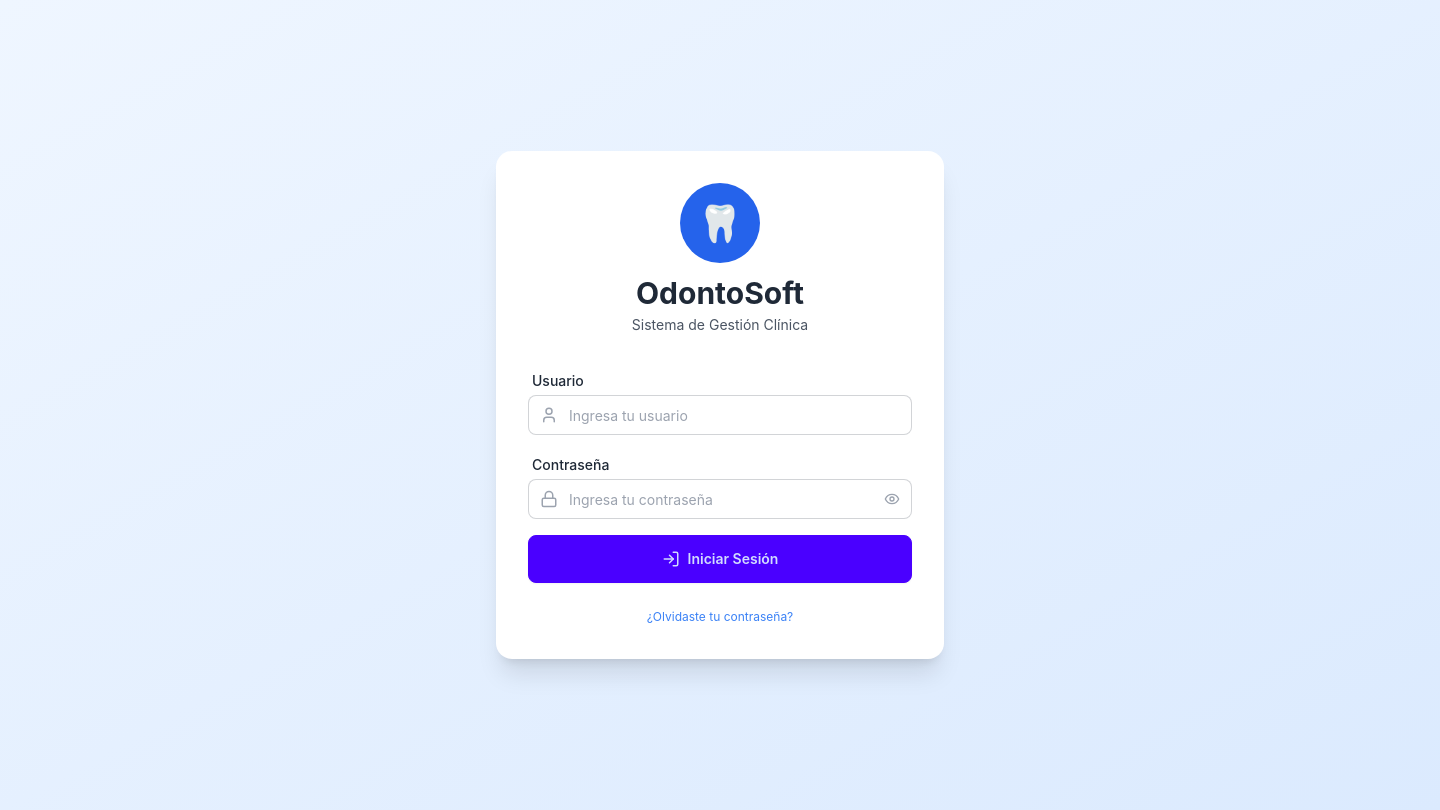
Scenario: Login Component › muestra error cuando las credenciales son incorrectas
Type "admin" into the field with placeholder "Ingresa tu usuario" at (720, 415), box [528,395,912,435]
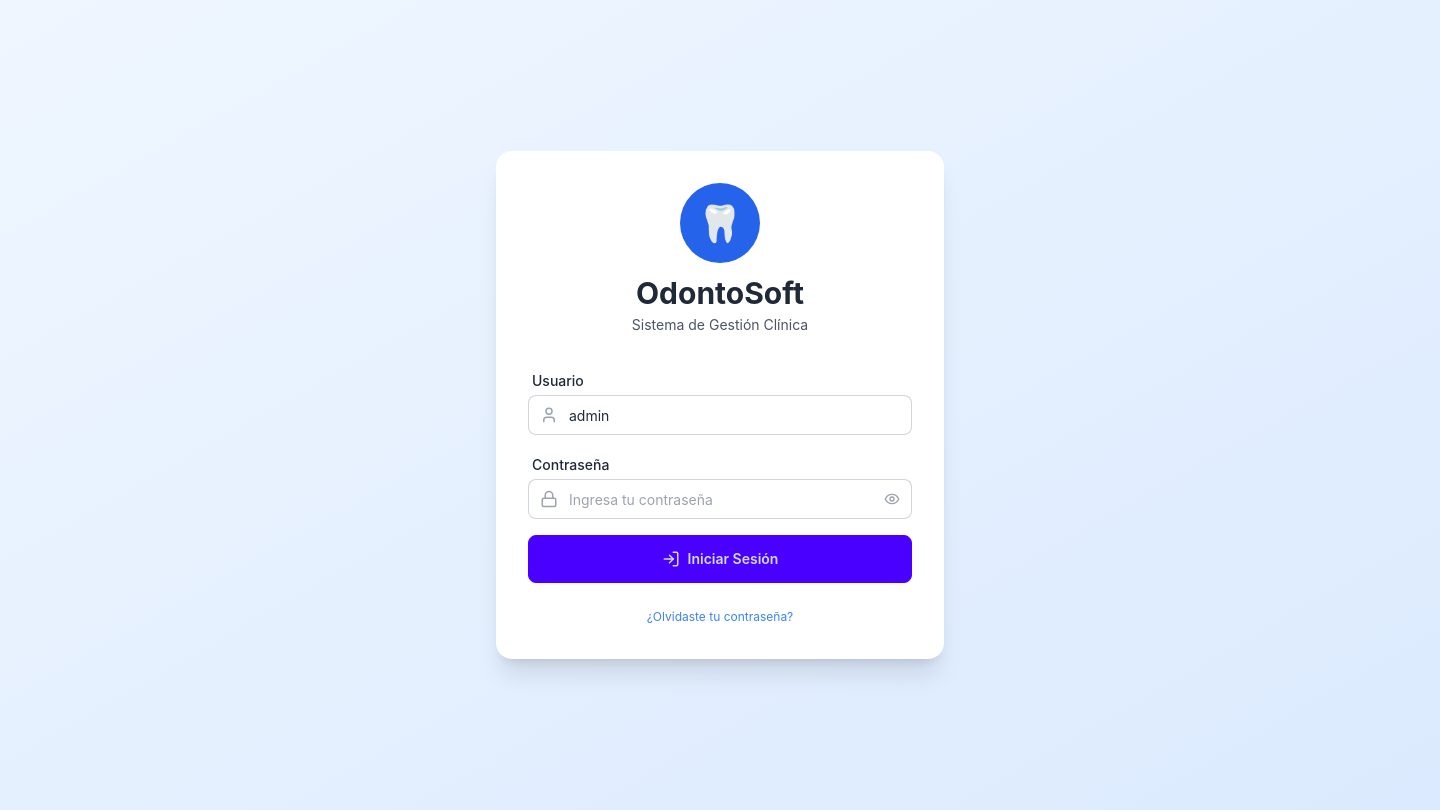
Type "wrong" into the password field with placeholder "Ingresa tu contraseña" at (720, 499), box [528,479,912,519]
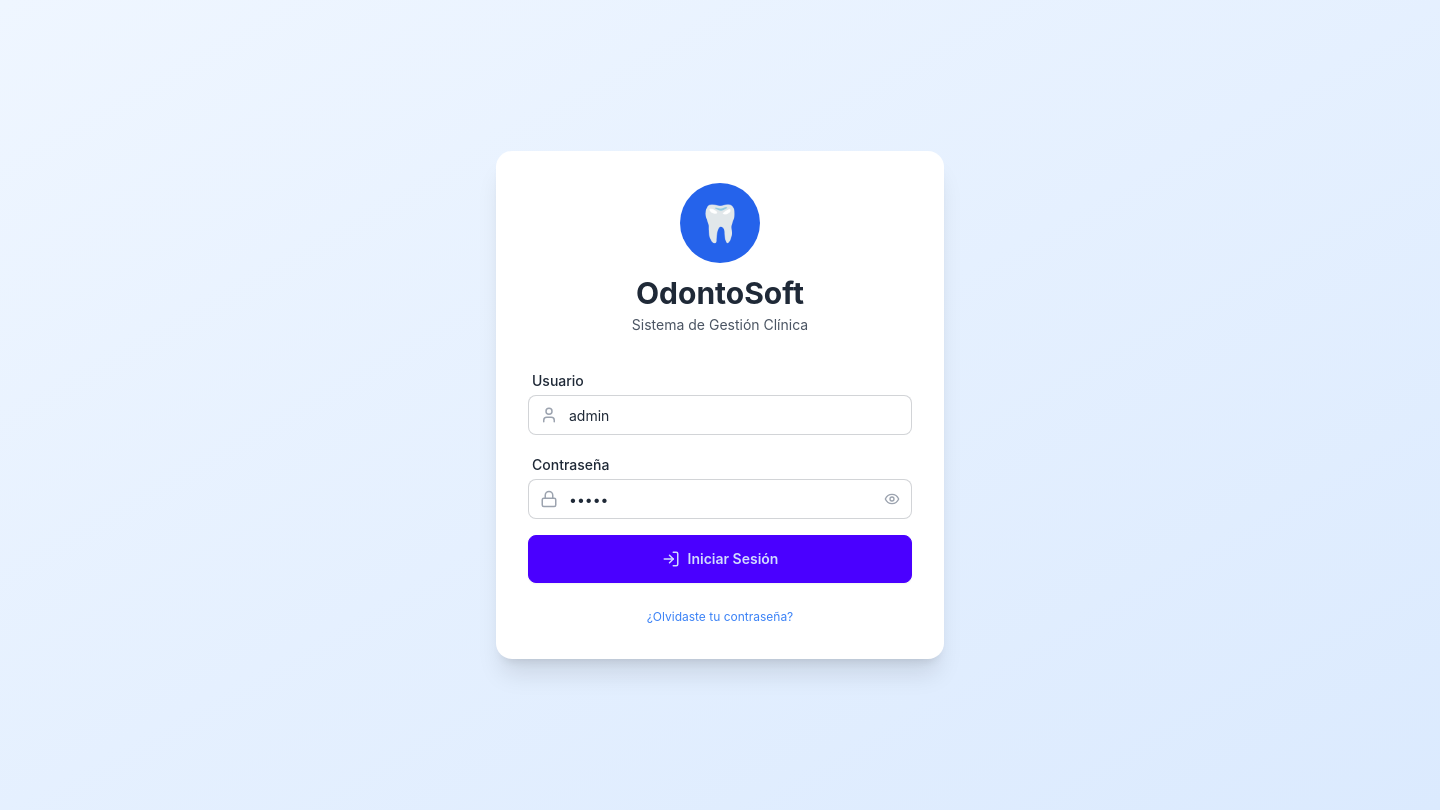
Click the button "Iniciar Sesión" at (720, 559), box [528,535,912,583]
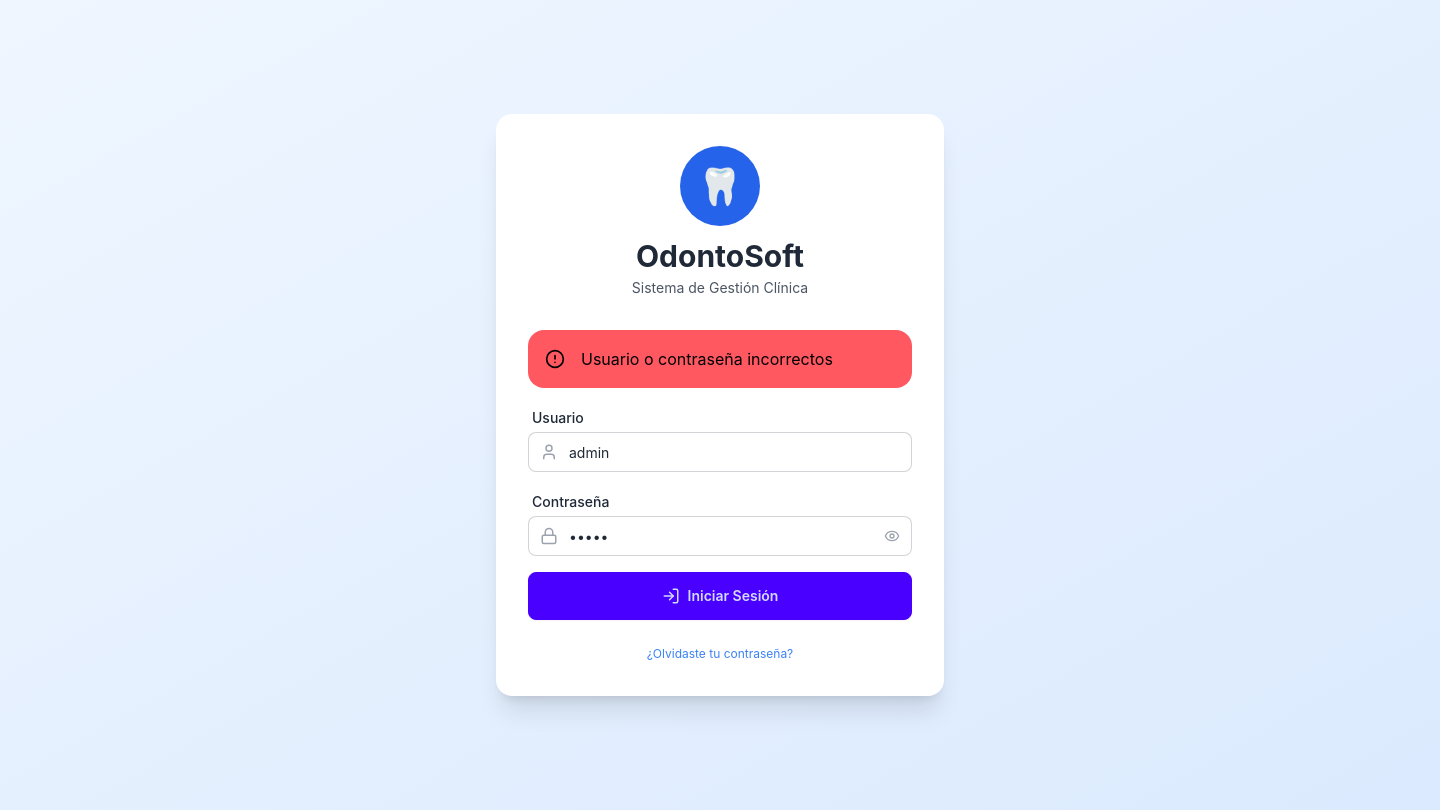
Result: the text "Usuario o contraseña incorrectos" is shown at [581,347,833,371]
